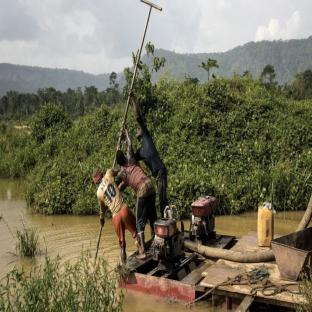Person: (88, 163, 135, 261)
ProcessingEquipment: (150, 203, 183, 271), (186, 193, 226, 246)
